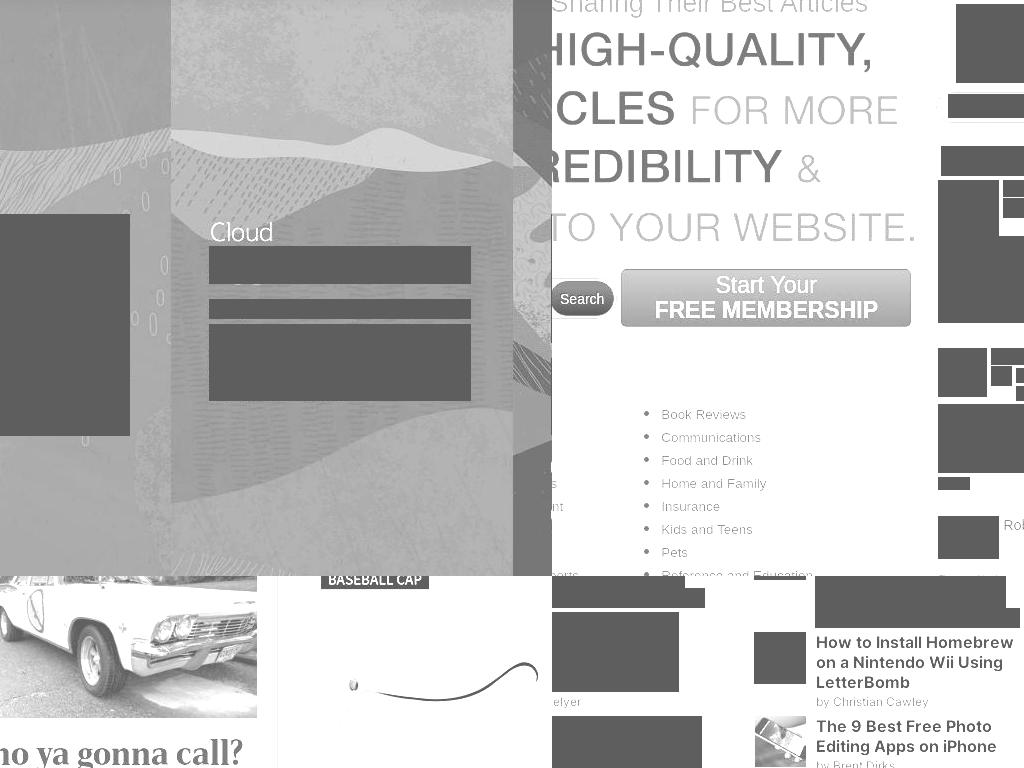button: (209, 214, 471, 417), (0, 576, 257, 718), (0, 214, 130, 436), (621, 269, 912, 328), (661, 403, 863, 427), (661, 426, 863, 450), (661, 449, 863, 473), (661, 472, 863, 496), (661, 495, 863, 519), (661, 518, 863, 542), (661, 541, 863, 565), (938, 180, 999, 241), (754, 632, 806, 684), (754, 716, 806, 768), (938, 516, 999, 559), (661, 564, 863, 576), (938, 348, 987, 397), (552, 403, 647, 427), (552, 426, 647, 450), (552, 449, 647, 473), (552, 472, 647, 496), (552, 495, 647, 519), (552, 518, 647, 542), (552, 541, 647, 565), (552, 281, 615, 317), (552, 564, 647, 576), (938, 477, 970, 490), (977, 309, 1008, 322)
field: (948, 94, 1024, 118)
heading: (815, 632, 1014, 693), (552, 373, 916, 404), (552, 612, 679, 693), (209, 246, 471, 284), (552, 716, 702, 768), (0, 737, 243, 768), (815, 716, 997, 757), (815, 576, 1006, 609), (0, 246, 130, 284), (941, 146, 1024, 176), (209, 214, 273, 247), (991, 348, 1024, 365), (1003, 180, 1024, 197), (1003, 516, 1024, 533)
iframe: (298, 576, 552, 768)
image: (552, 31, 916, 243), (0, 576, 257, 718), (956, 4, 1024, 83), (938, 180, 999, 241), (754, 632, 806, 684), (754, 716, 806, 768), (938, 516, 999, 559), (938, 348, 987, 397), (1003, 198, 1024, 218), (991, 366, 1012, 386), (1003, 534, 1024, 554)
text: (209, 324, 471, 401), (0, 324, 130, 420), (552, 0, 916, 31), (938, 236, 1024, 323), (654, 297, 879, 324), (938, 404, 1024, 473), (209, 299, 471, 319), (815, 608, 1020, 628), (815, 692, 1020, 712), (552, 588, 705, 608), (552, 692, 705, 712), (715, 272, 818, 299), (0, 299, 130, 319), (815, 756, 1020, 768)
